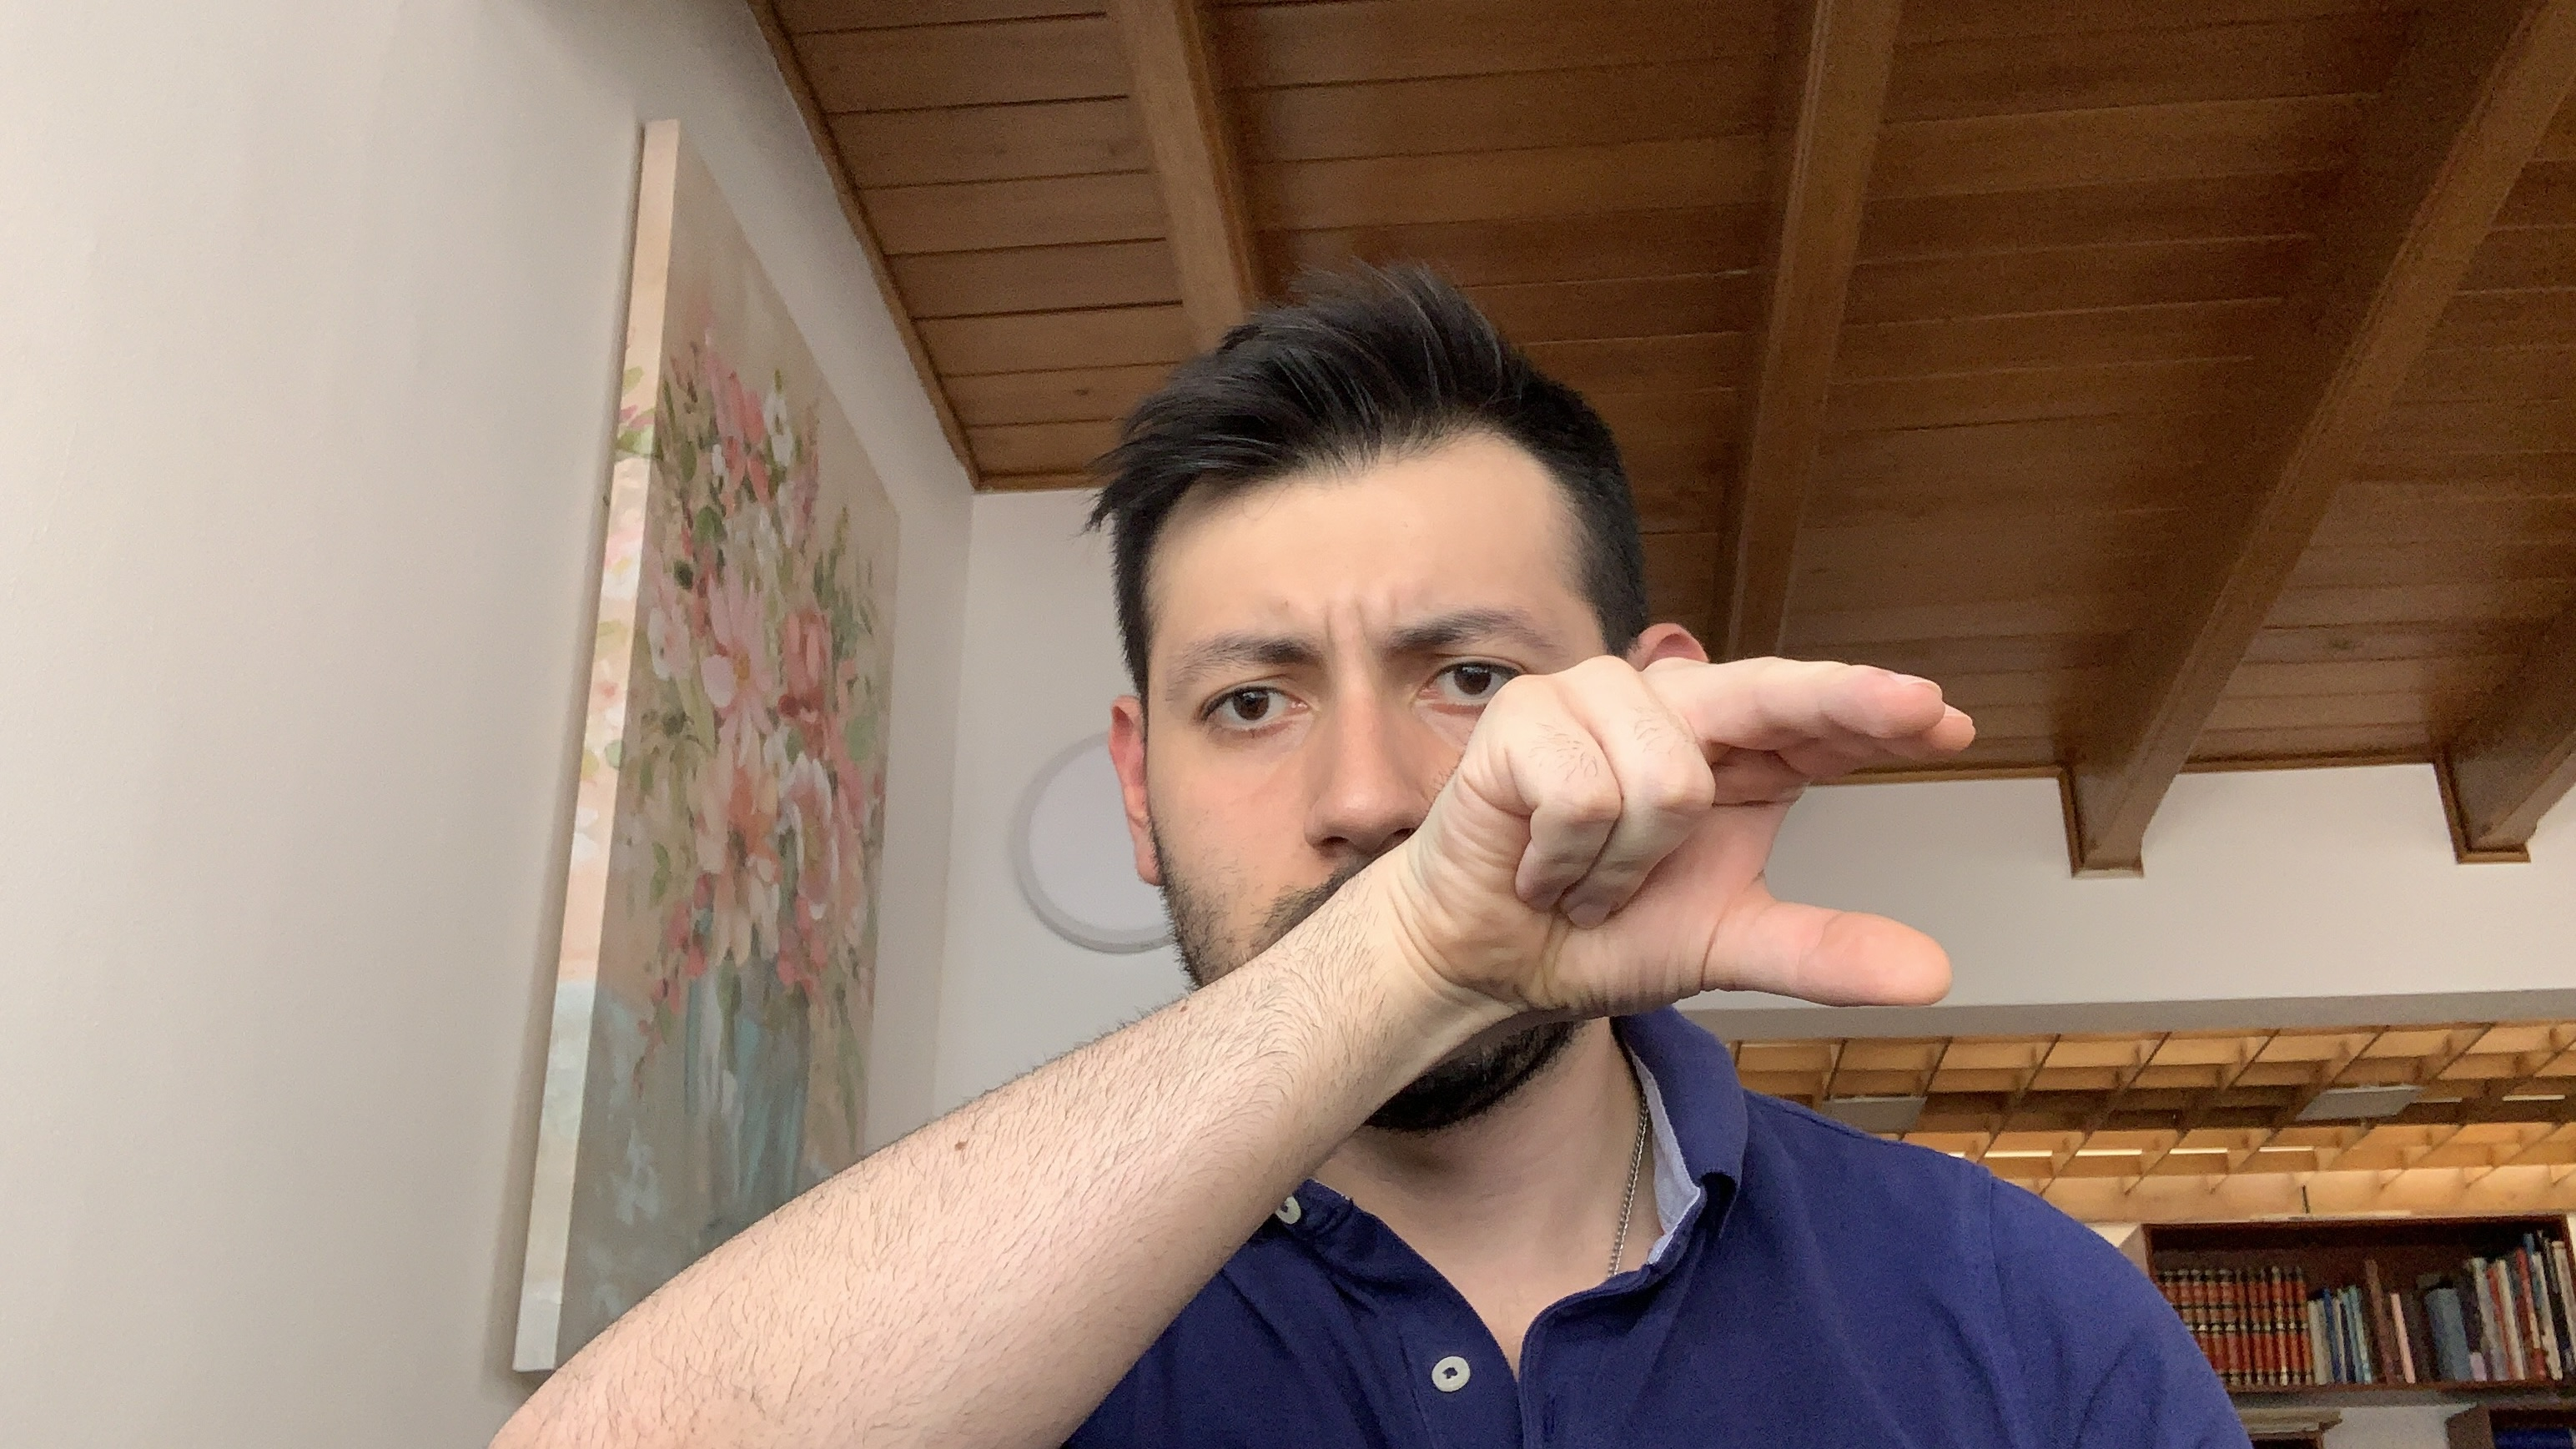No: (1378, 646, 1992, 1054)
